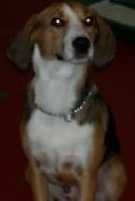dog: (8, 0, 135, 187)
